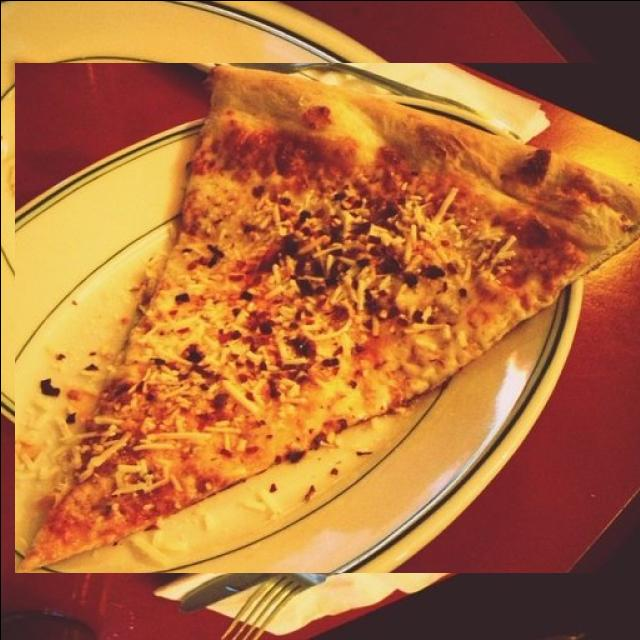pizza: (14, 62, 640, 572)
